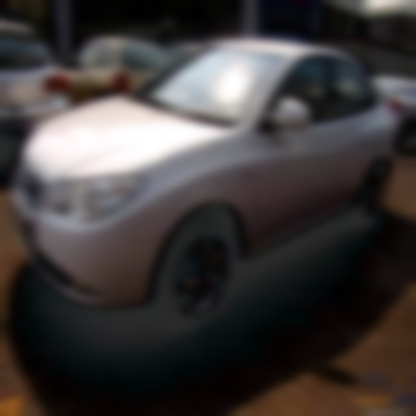Vehicle: (9, 36, 399, 333)
